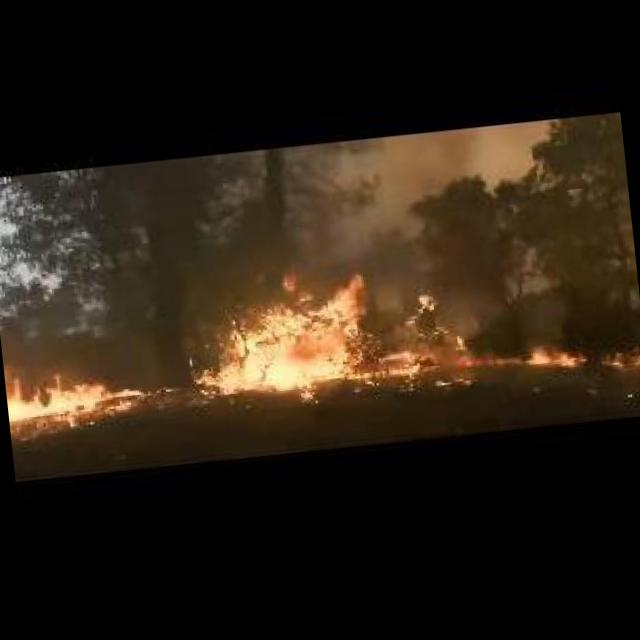fire: (174, 245, 485, 418), (2, 344, 152, 437)
